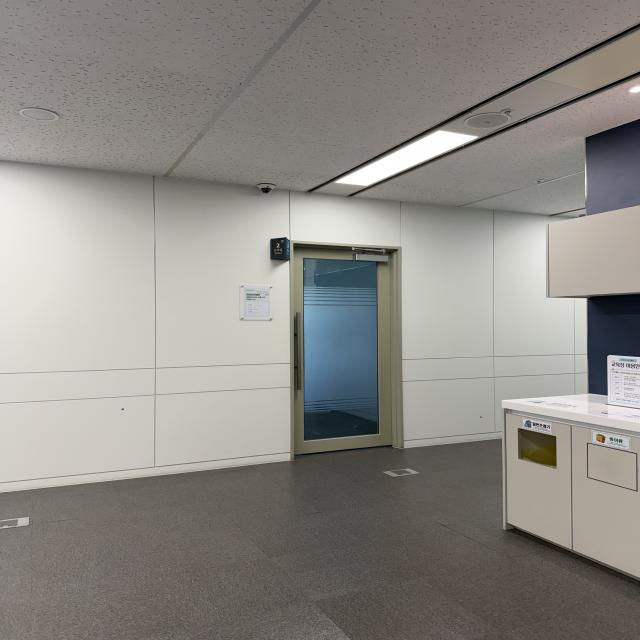sign: (270, 238, 290, 260)
